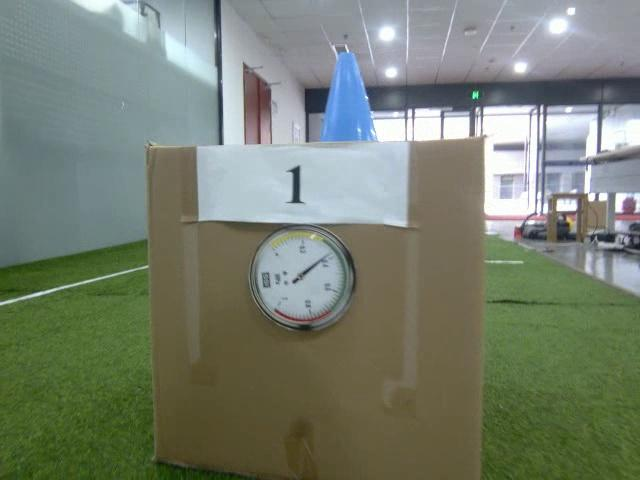1: (283, 162, 309, 208)
Dashboard: (249, 223, 358, 334)
blue_barrel: (316, 50, 384, 143)
ssi: (259, 269, 272, 290)
